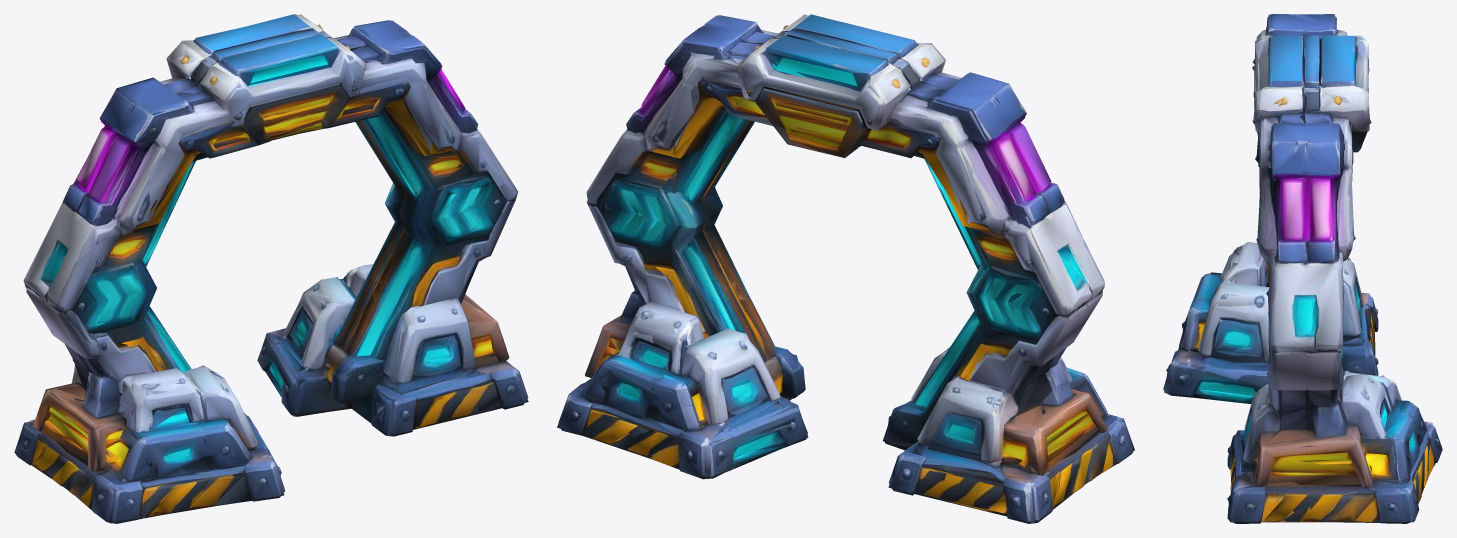
File: portico.glb
3 renders of one model, left to right at view 1: azimuth 30°, elevation 25°; view 2: azimuth 150°, elevation 25°; view 3: azimuth 270°, elevation 25°, orthographic. The views are drawn at different scales.
Visible parts, largest first — view 1: portico, portico-lod; view 2: portico, portico-lod; view 3: portico, portico-lod.
Boxes of the visible parts, x1,y1,x2,y2 form: portico: (14,14,528,523); portico-lod: (14,14,528,523); portico: (558,14,1133,523); portico-lod: (557,14,1134,523); portico: (1163,14,1442,523); portico-lod: (1164,14,1439,522).
Bounding box in the file's own units: 1 × 0.7914 × 0.55.
1 material, 1 textured.
